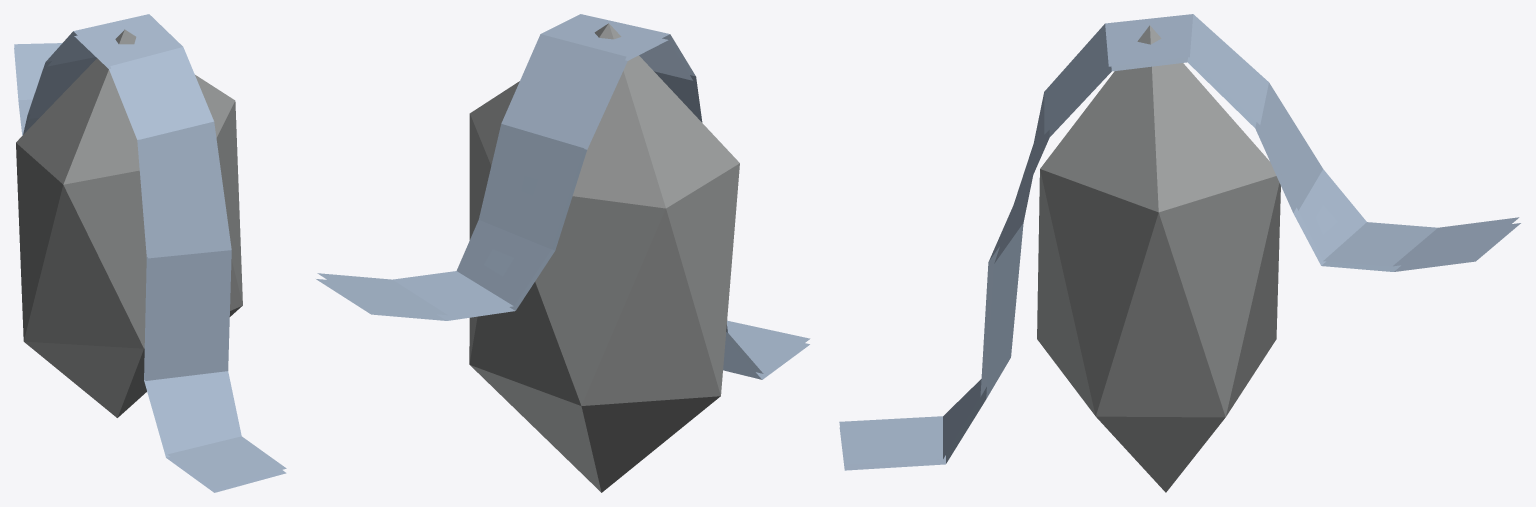
The model's file is prop_scarf_worn.glb.
The picture shows the model from 3 angles, left to right: view 1: azimuth 30°, elevation 25°; view 2: azimuth 150°, elevation 25°; view 3: azimuth 270°, elevation 25°; orthographic projection. The views are drawn at different scales.
Visible parts, largest first — view 1: prop_scarf_worn_mesh; view 2: prop_scarf_worn_mesh; view 3: prop_scarf_worn_mesh.
Part boxes in pixels (box(x1,y1,x2,y2)): prop_scarf_worn_mesh: box(14, 14, 286, 492); prop_scarf_worn_mesh: box(316, 14, 810, 492); prop_scarf_worn_mesh: box(839, 14, 1520, 492).
Size of what is drawn, in the model's own units: 0.5696 by 1.01 by 1.33.
